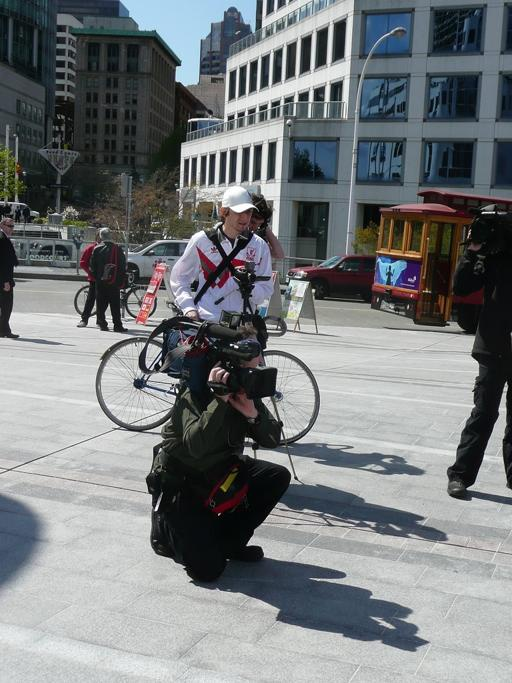non-vehicle: (94, 310, 320, 446), (74, 273, 159, 319)
